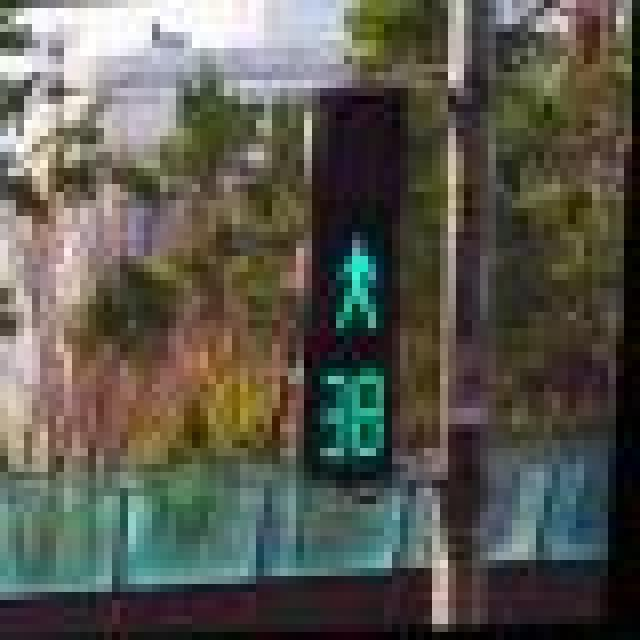greenlight: (280, 88, 400, 360)
